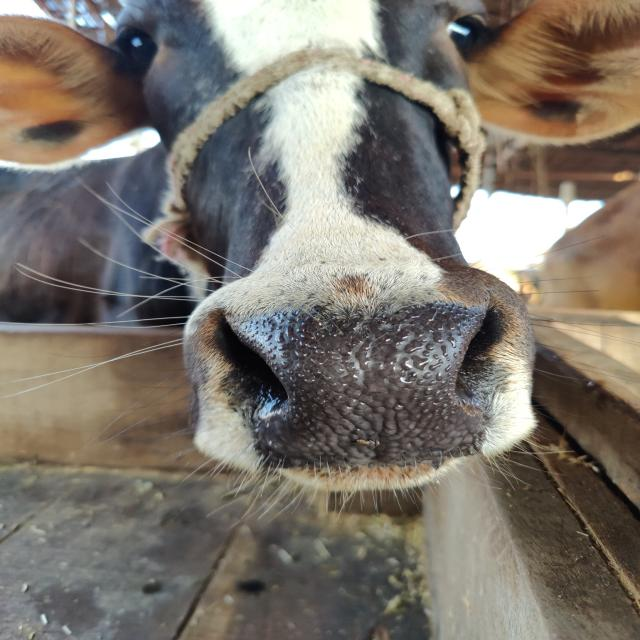muzzles: (208, 292, 518, 476)
